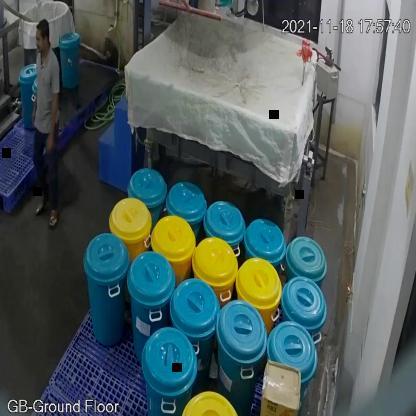no_shoes: (47, 208, 62, 233)
